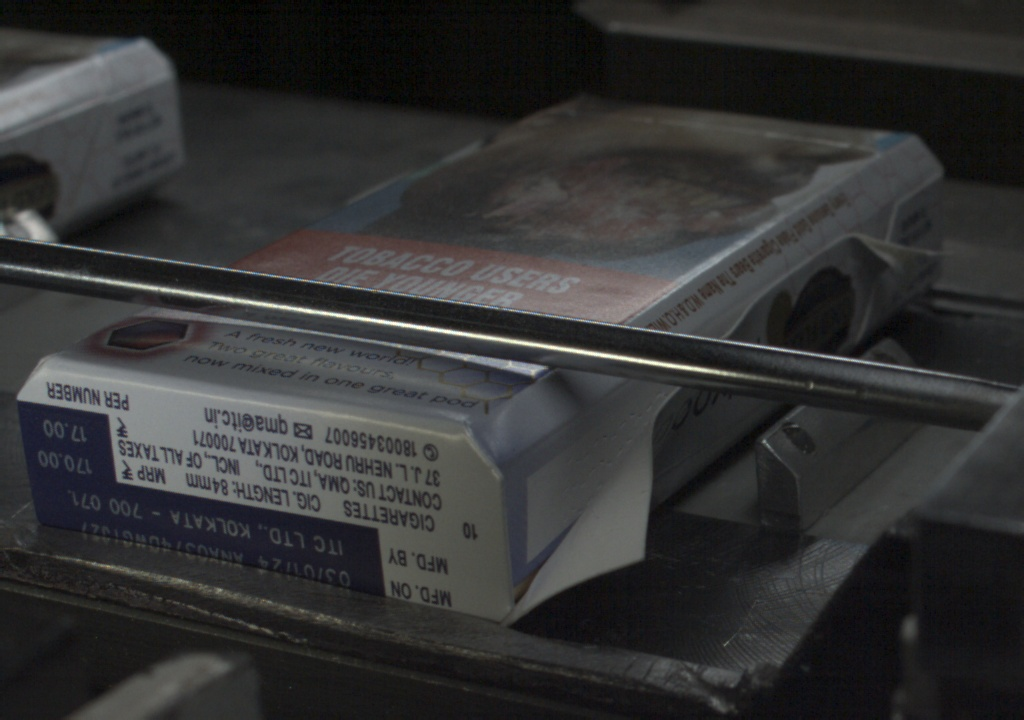g_bottom: (12, 360, 505, 631)
g_label: (31, 481, 389, 602)
g_miter: (894, 173, 947, 220)
ng_lmiter: (509, 406, 648, 592), (858, 224, 945, 274)
price: (22, 414, 114, 478)
